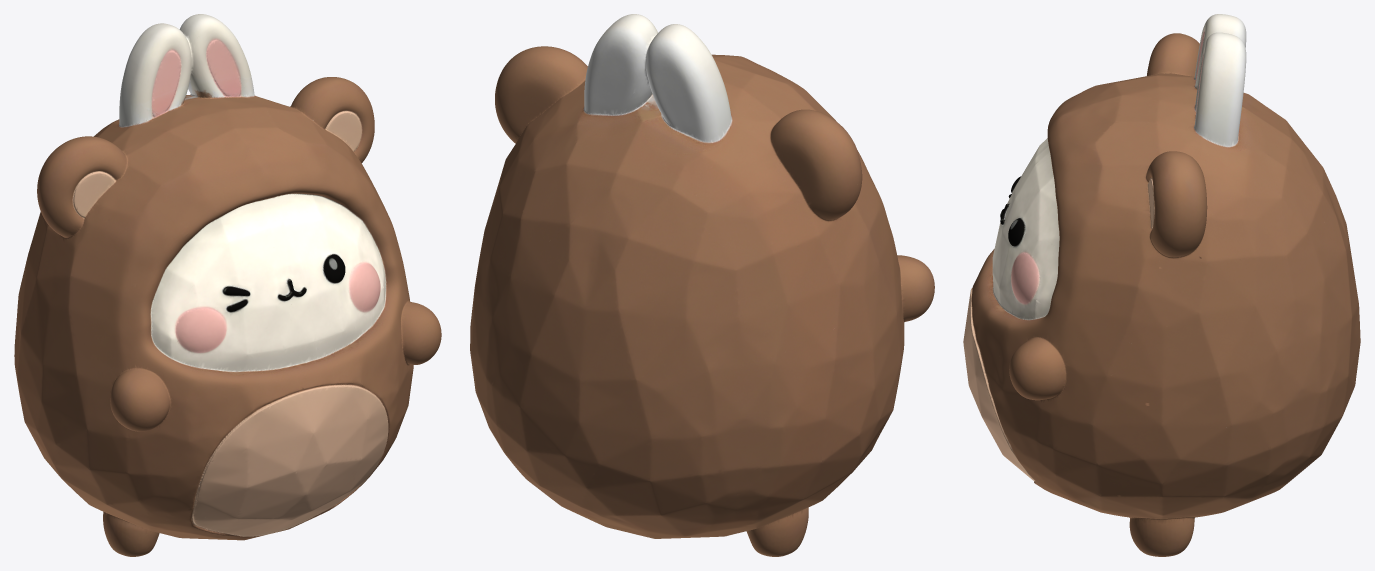
The model's file is Meshy_AI_Bunbear_0520124854_texture.fbx.
The picture shows the model from 3 angles, left to right: view 1: azimuth 30°, elevation 25°; view 2: azimuth 150°, elevation 25°; view 3: azimuth 270°, elevation 25°; orthographic projection. The views are drawn at different scales.
Parts seen in each view (by area): view 1: Mesh_0; view 2: Mesh_0; view 3: Mesh_0.
Part boxes in pixels (x1,y1,x2,y2): Mesh_0: [14, 14, 441, 556]; Mesh_0: [470, 14, 934, 556]; Mesh_0: [963, 14, 1360, 556].
Size of the model in its own units: 141 by 190 by 141.
Materials: 1 (1 with a texture image).
